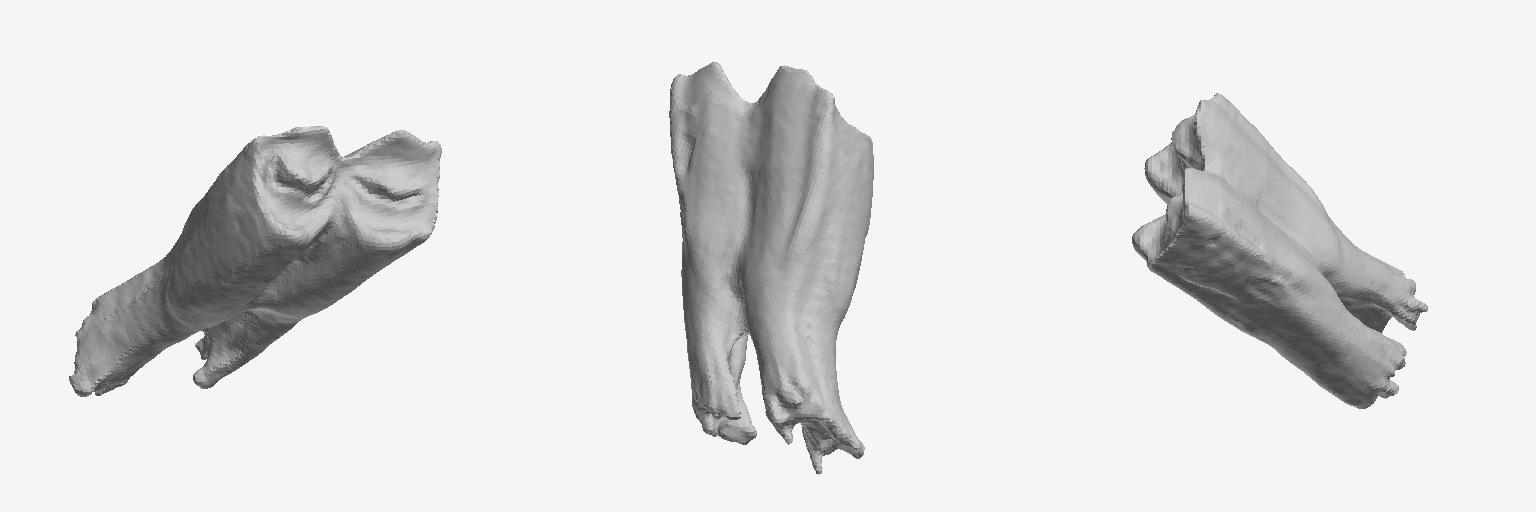
File: MB Ovis 1 M2.obj
3 views of the same model, side by side, from view 1: azimuth 30°, elevation 25°; view 2: azimuth 150°, elevation 25°; view 3: azimuth 270°, elevation 25° (orthographic).
Size of the model in its own units: 23.53 by 25.23 by 21.65.